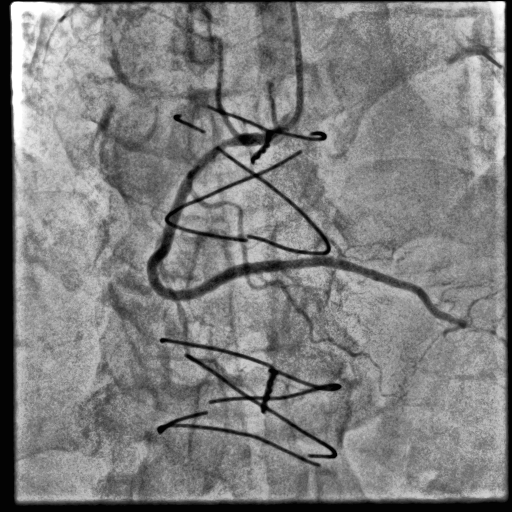pda: (313, 257, 468, 328)
rca: (147, 124, 313, 301)
